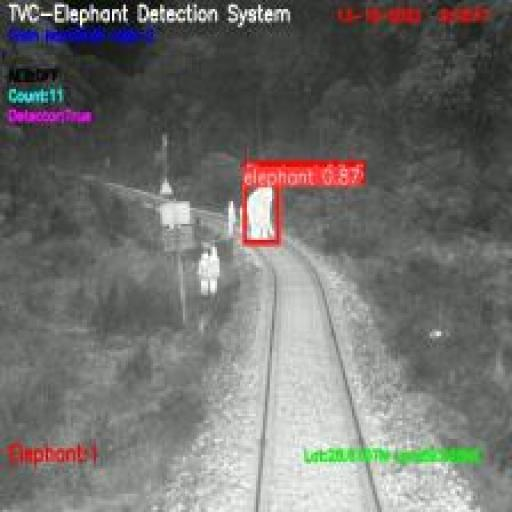Elephant: (245, 185, 280, 245)
